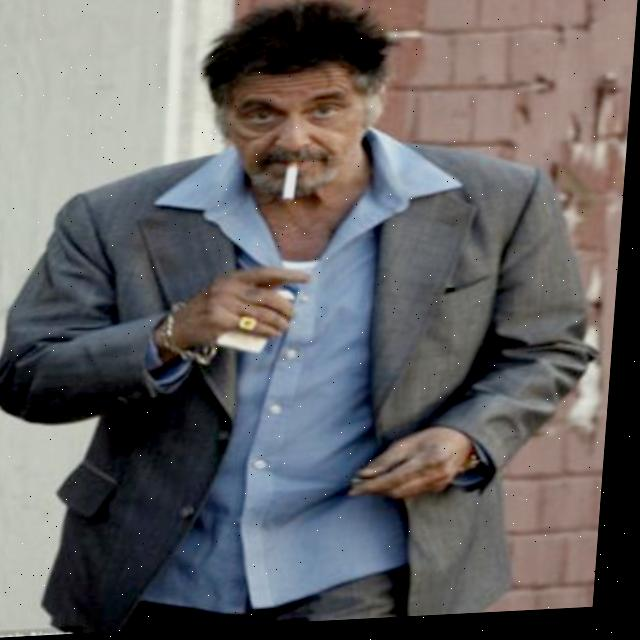cigarette: (285, 166, 302, 205)
